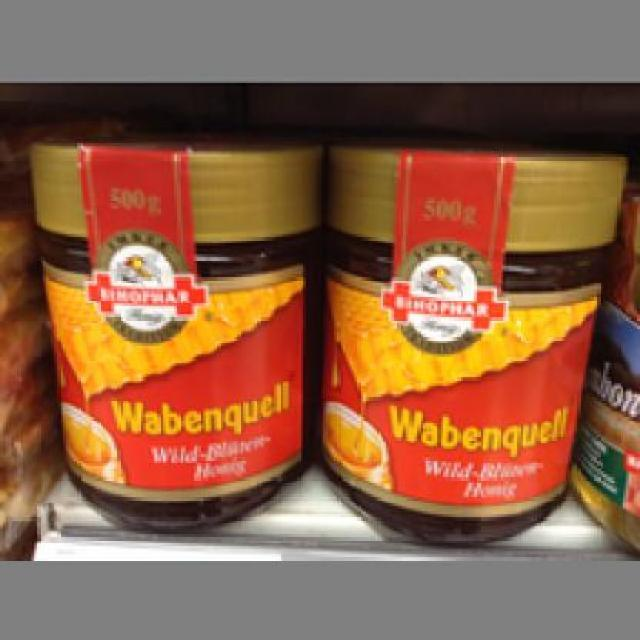Honey: (26, 128, 326, 538), (333, 137, 630, 540)
